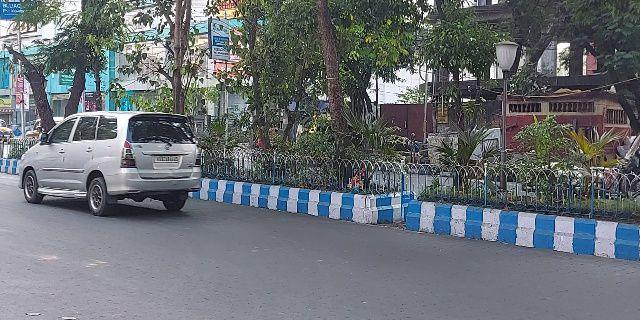Car: (16, 109, 204, 214)
